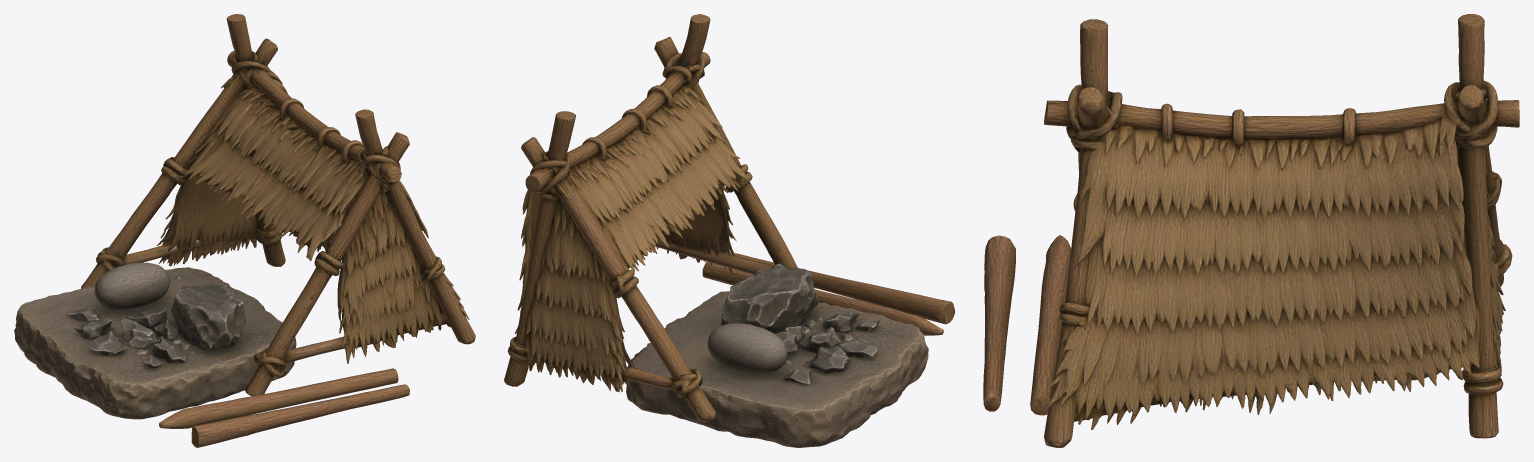
Rendered from Tool Maker (West African).fbx.
3 views of the same model, side by side, from view 1: azimuth 30°, elevation 25°; view 2: azimuth 150°, elevation 25°; view 3: azimuth 270°, elevation 25° (orthographic). The views are drawn at different scales.
Parts seen in each view (by area): view 1: tripo_node_b1b5bbf5; view 2: tripo_node_b1b5bbf5; view 3: tripo_node_b1b5bbf5.
Part boxes in pixels (x1,y1,x2,y2): tripo_node_b1b5bbf5: [14, 14, 475, 447]; tripo_node_b1b5bbf5: [504, 14, 954, 447]; tripo_node_b1b5bbf5: [983, 14, 1519, 447].
Size of the model in its own units: 1 by 0.7485 by 0.9214.
